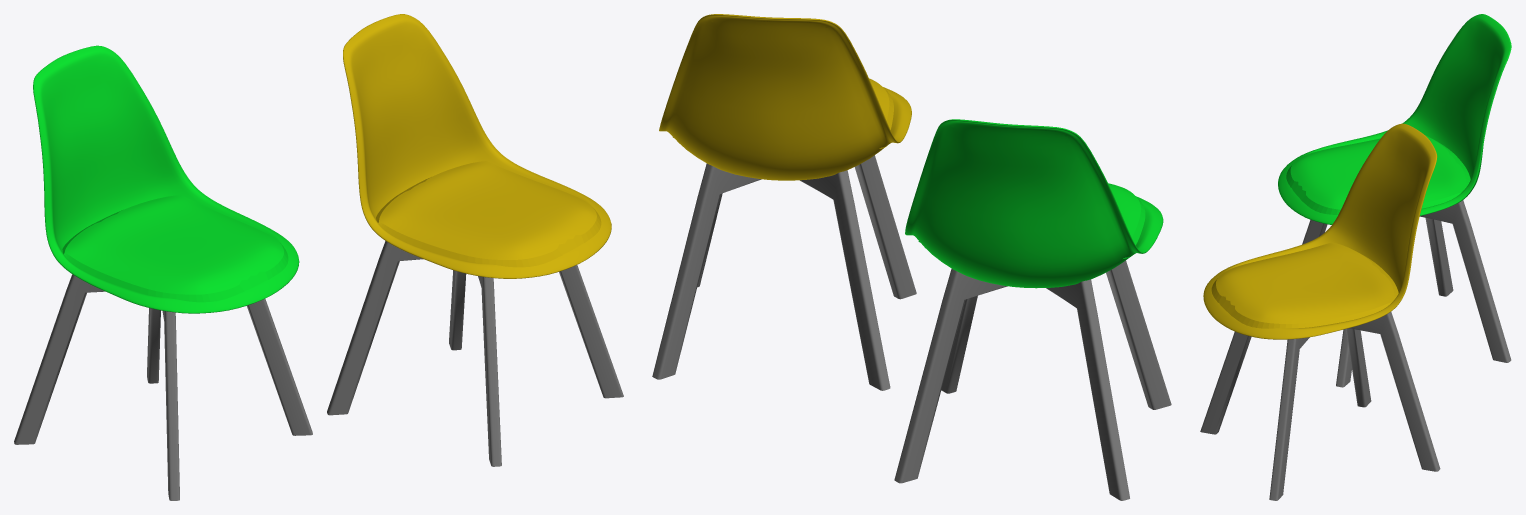
The picture shows the model from 3 angles, left to right: view 1: azimuth 30°, elevation 25°; view 2: azimuth 150°, elevation 25°; view 3: azimuth 270°, elevation 25°; orthographic projection. The views are drawn at different scales.
Visible parts, largest first — view 1: vitra_eames_plastic_dsw_red001, vitra_eames_plastic_dsw_red002, Object001, Group001, Shape003, Shape002; view 2: vitra_eames_plastic_dsw_red002, vitra_eames_plastic_dsw_red001, Shape002, Shape003, Object001; view 3: vitra_eames_plastic_dsw_red002, Group001, vitra_eames_plastic_dsw_red001, Shape003, Object001, Shape002.
Boxes of the visible parts, box(x1,y1,x2,y2) form: vitra_eames_plastic_dsw_red001: box(33, 45, 299, 313); vitra_eames_plastic_dsw_red002: box(343, 14, 611, 278); Object001: box(62, 195, 288, 302); Group001: box(376, 161, 601, 267); Shape003: box(327, 241, 623, 466); Shape002: box(14, 274, 312, 500); vitra_eames_plastic_dsw_red002: box(659, 14, 911, 180); vitra_eames_plastic_dsw_red001: box(905, 119, 1163, 288); Shape002: box(894, 260, 1171, 500); Shape003: box(652, 155, 916, 390); Object001: box(918, 183, 1145, 258); vitra_eames_plastic_dsw_red002: box(1203, 123, 1437, 339); Group001: box(1211, 242, 1398, 328); vitra_eames_plastic_dsw_red001: box(1278, 14, 1511, 224); Shape003: box(1200, 312, 1440, 500); Object001: box(1286, 135, 1470, 214); Shape002: box(1302, 200, 1511, 387).
Bounding box in the file's own units: 1256 × 812 × 779.
